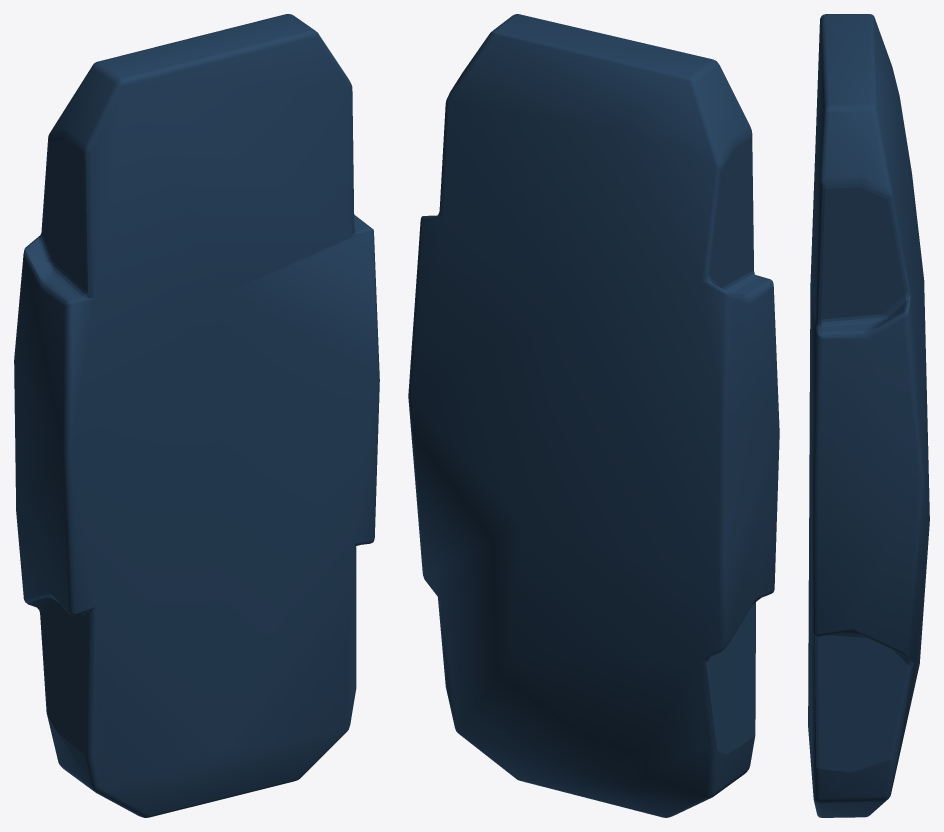
Rendered from MarshNsx_LOD2.fbx.
3 renders of one model, left to right at view 1: azimuth 30°, elevation 25°; view 2: azimuth 150°, elevation 25°; view 3: azimuth 270°, elevation 25°, orthographic. The views are drawn at different scales.
Parts seen in each view (by area): view 1: Marsh_BODY_SHELL_LOD2; view 2: Marsh_BODY_SHELL_LOD2; view 3: Marsh_BODY_SHELL_LOD2.
Part boxes in pixels (<box>): Marsh_BODY_SHELL_LOD2: <box>14,14,379,817</box>; Marsh_BODY_SHELL_LOD2: <box>408,14,779,817</box>; Marsh_BODY_SHELL_LOD2: <box>808,14,929,817</box>.
Bounding box in the file's own units: 202 × 453 × 69.29.
